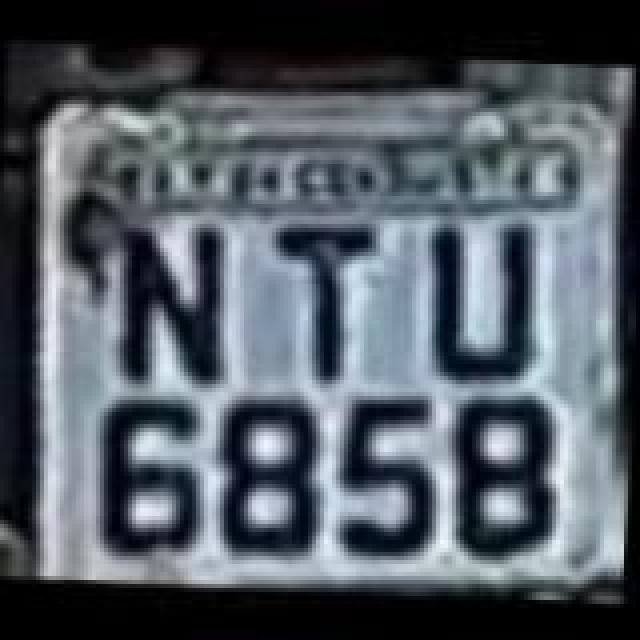5: (338, 388, 446, 556)
6: (96, 392, 216, 556)
8: (446, 384, 570, 556), (212, 392, 324, 556)
N: (112, 218, 240, 398)
T: (260, 220, 388, 392)
U: (418, 212, 550, 388)
